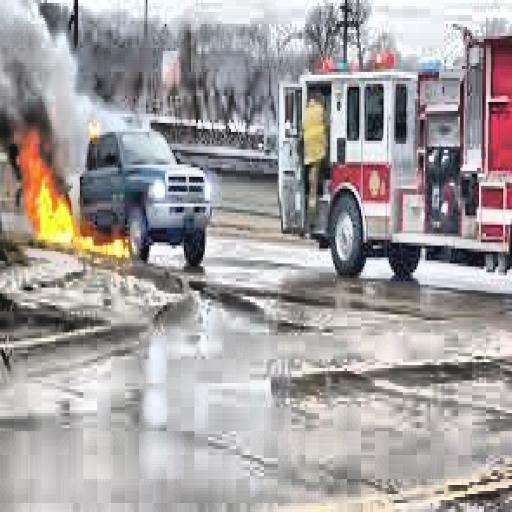fire: (7, 117, 135, 275)
